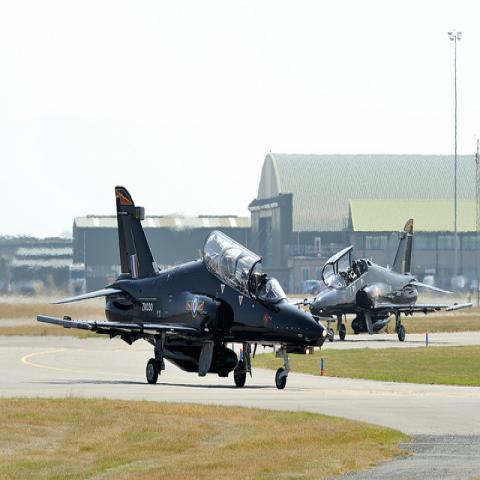truck: (69, 260, 87, 297)
